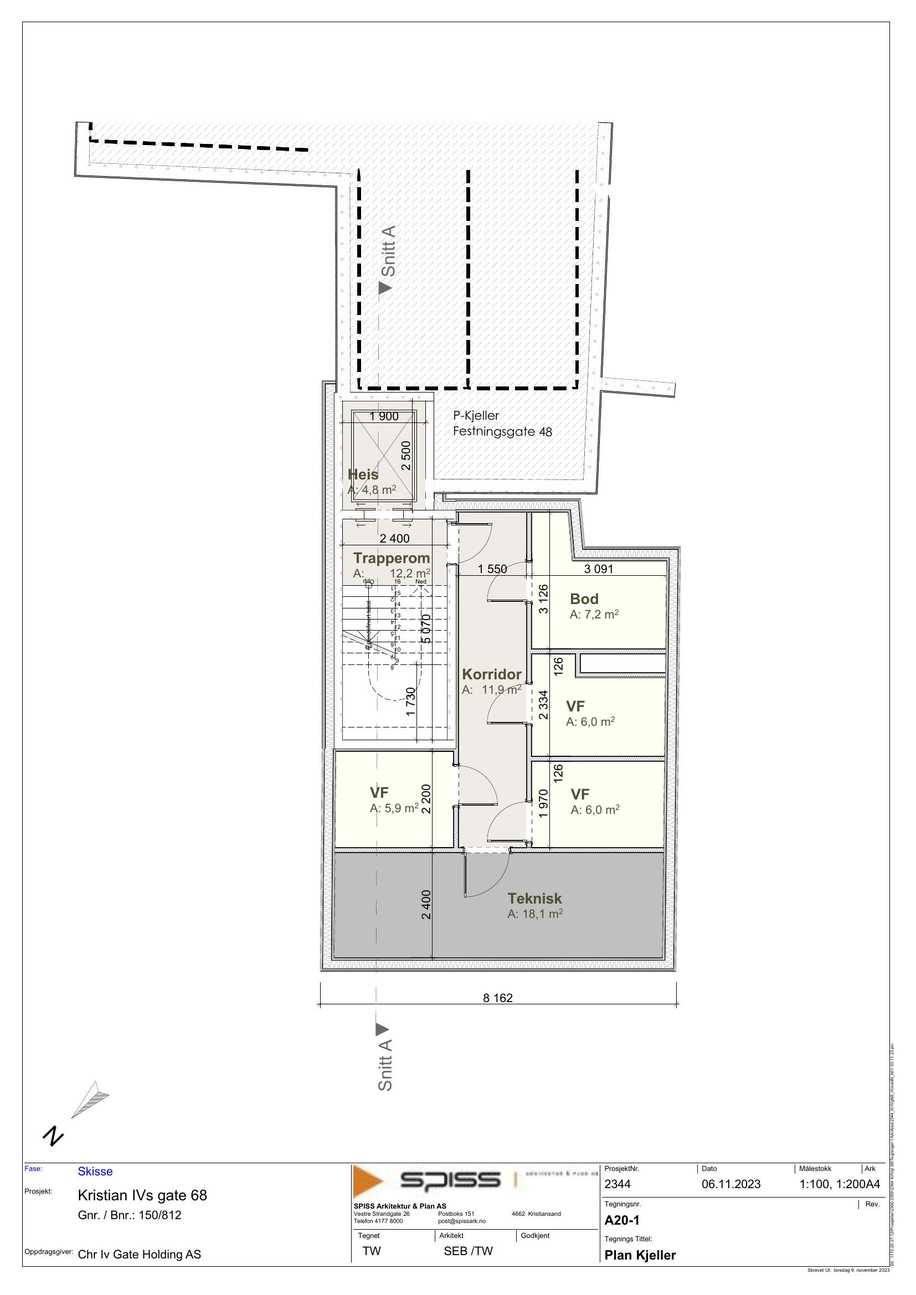plantegning: (299, 372, 689, 979)
